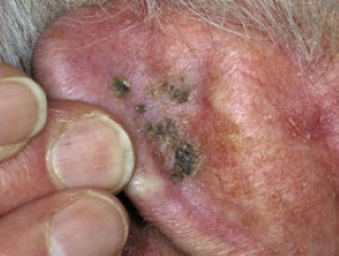seborrheic keratosis: (135, 79, 328, 184)
